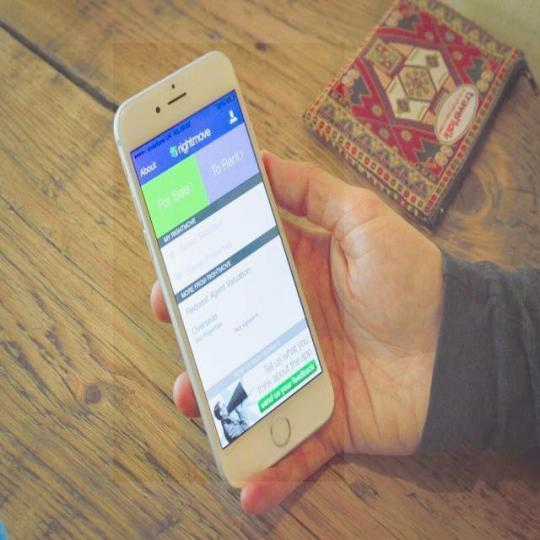phone: (106, 49, 340, 494)
